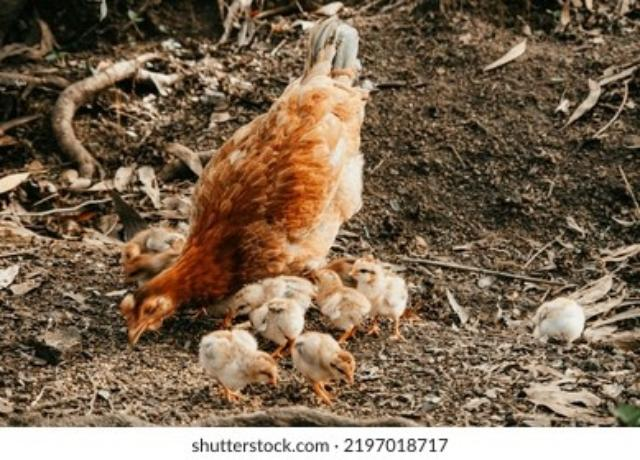Chicken: (122, 21, 367, 349)
